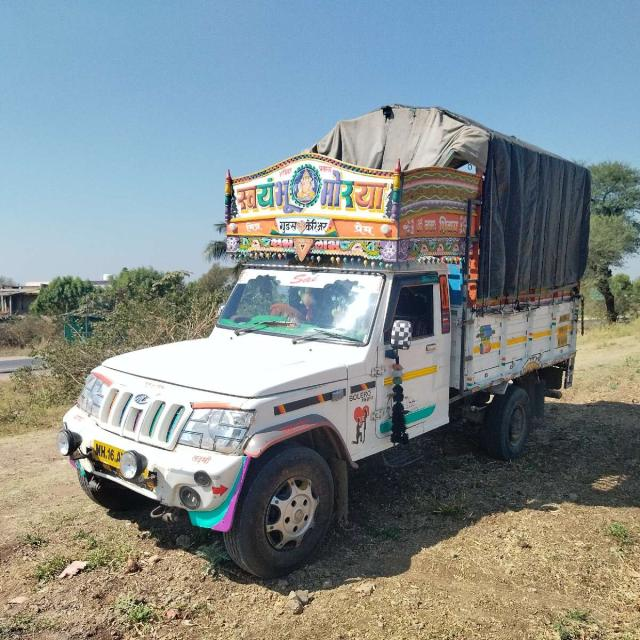light_vehicle: (67, 165, 578, 518)
